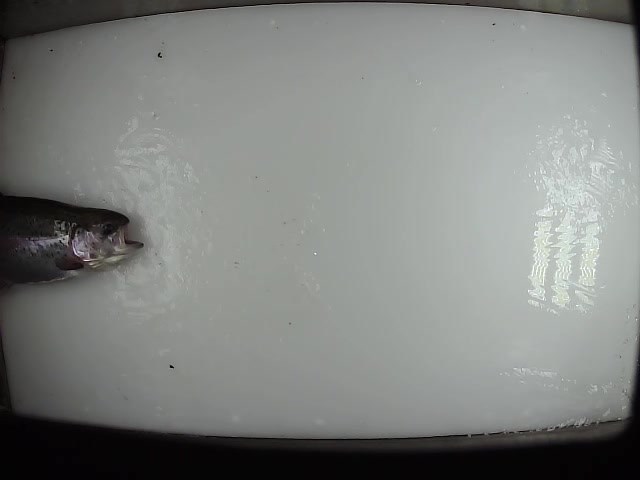fish: (1, 190, 151, 298)
